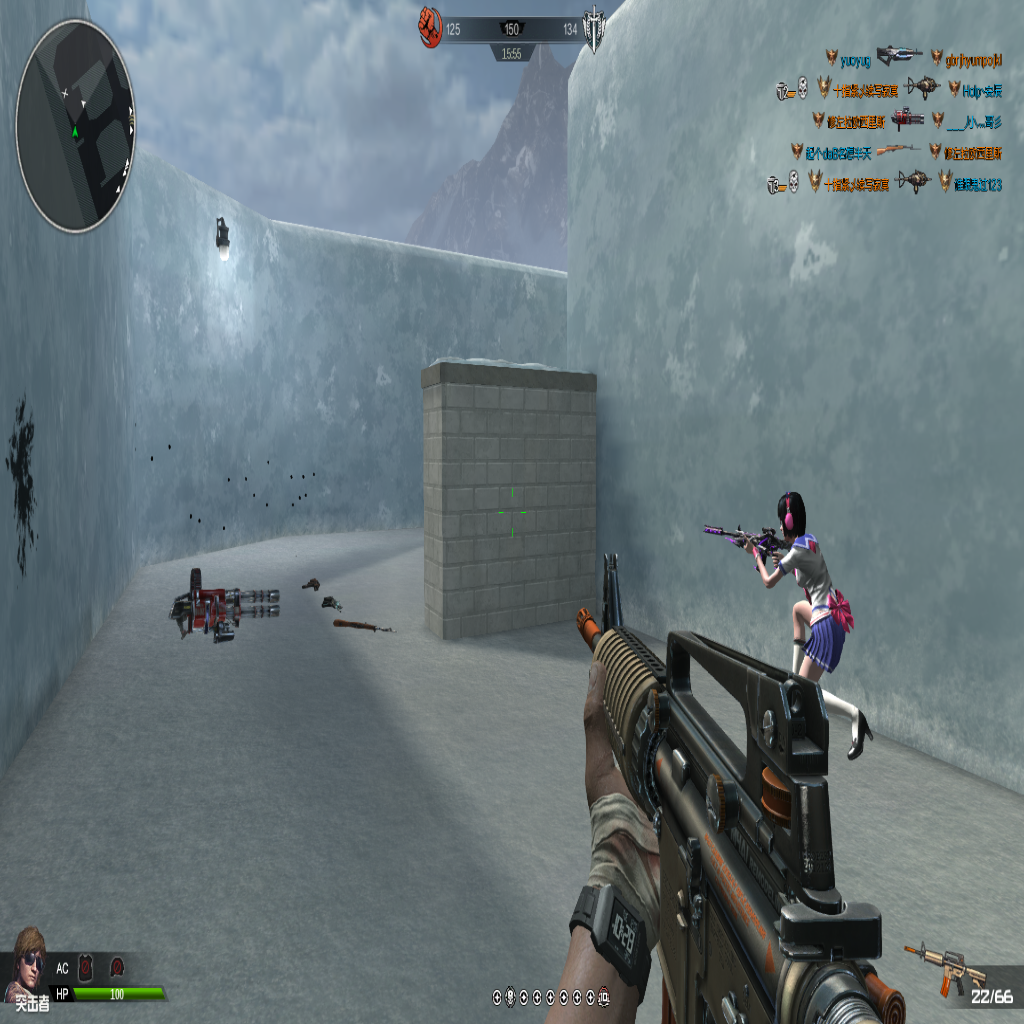tt: (738, 497, 847, 703)
